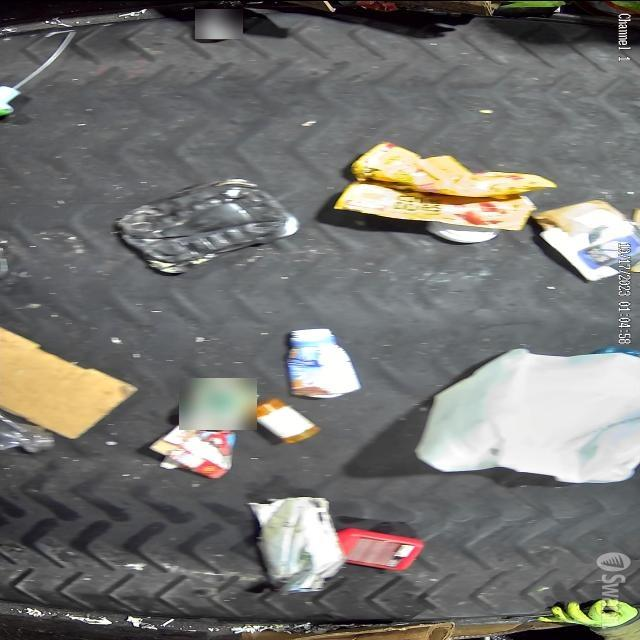milk_jug: (413, 348, 638, 482)
